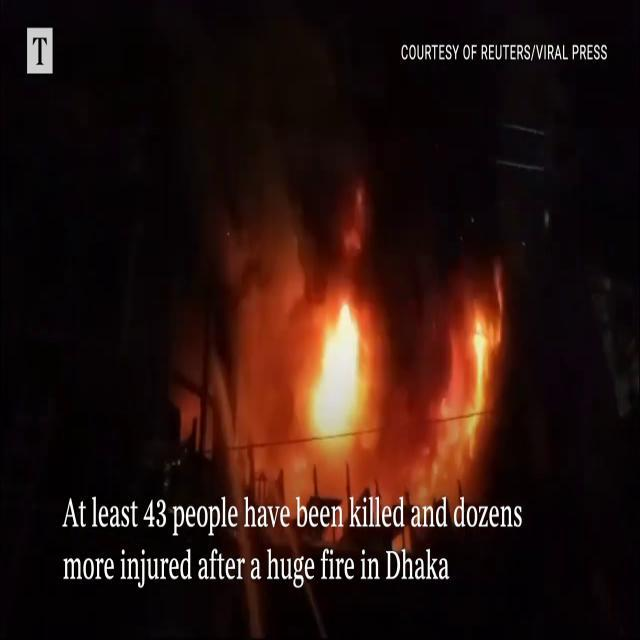Fire: (412, 271, 509, 477), (295, 288, 378, 452)
Smoke: (168, 150, 320, 455)
